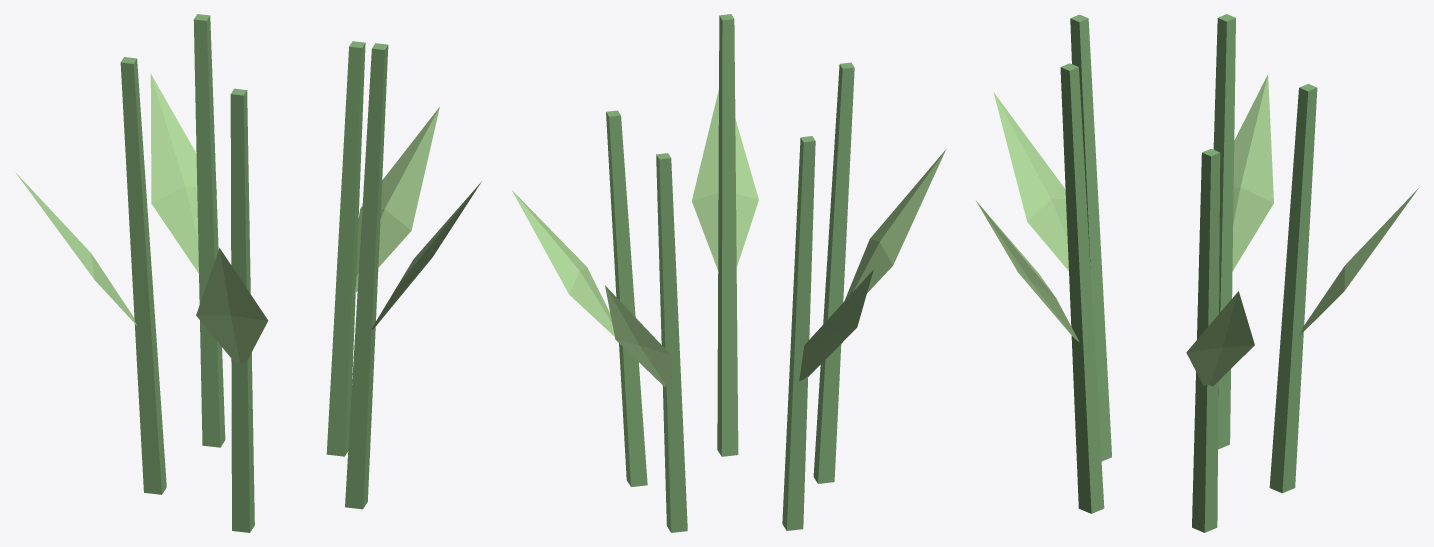
Rendered from crop_wheat_s1.glb.
The picture shows the model from 3 angles, left to right: view 1: azimuth 30°, elevation 25°; view 2: azimuth 150°, elevation 25°; view 3: azimuth 270°, elevation 25°; orthographic projection. The views are drawn at different scales.
Parts seen in each view (by area): view 1: crop_wheat_s1; view 2: crop_wheat_s1; view 3: crop_wheat_s1.
Boxes of the visible parts, bbox=[...] form: crop_wheat_s1: bbox=[16, 14, 481, 532]; crop_wheat_s1: bbox=[512, 14, 946, 532]; crop_wheat_s1: bbox=[976, 14, 1419, 532].
Bounding box in the file's own units: 0.3227 × 0.348 × 0.3133.
